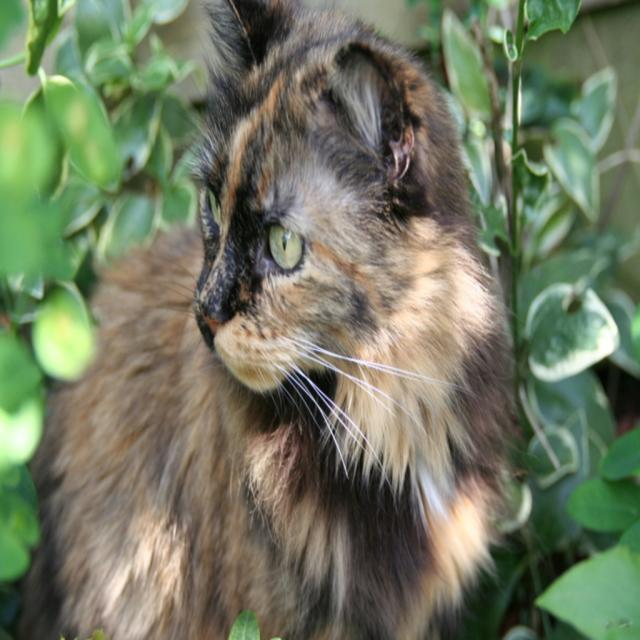Cat: (20, 0, 537, 639)
